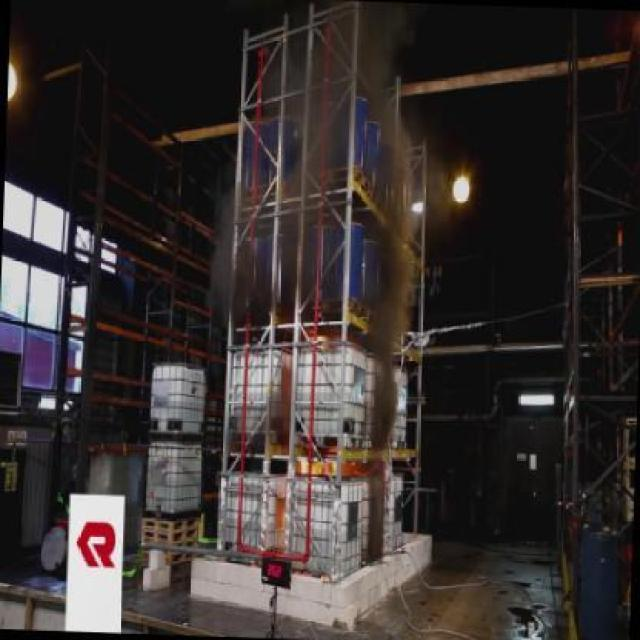fire: (372, 153, 414, 470), (324, 0, 414, 131), (207, 186, 238, 334)
